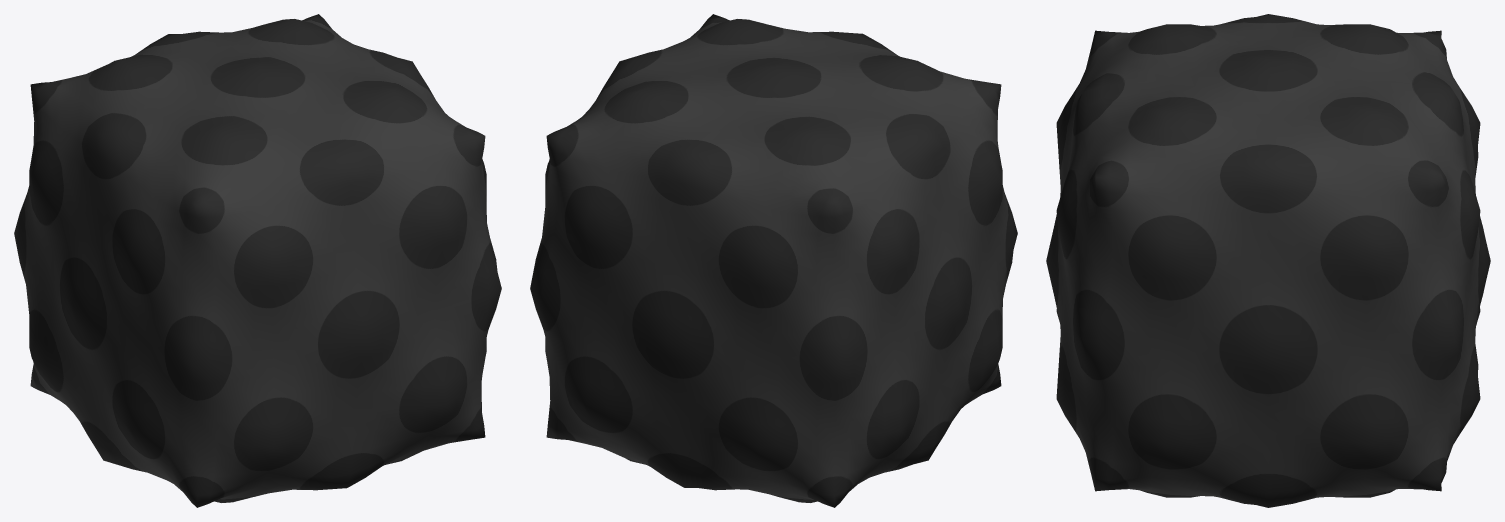
The model's file is rock.obj.
3 views of the same model, side by side, from view 1: azimuth 30°, elevation 25°; view 2: azimuth 150°, elevation 25°; view 3: azimuth 270°, elevation 25° (orthographic). The views are drawn at different scales.
Visible parts, largest first — view 1: Cube.005; view 2: Cube.005; view 3: Cube.005.
Boxes of the visible parts, x1,y1,x2,y2 form: Cube.005: [14, 14, 501, 507]; Cube.005: [530, 14, 1017, 507]; Cube.005: [1046, 14, 1490, 507].
Bounding box in the file's own units: 101 × 101 × 101.
Materials: 1 (1 with a texture image).
